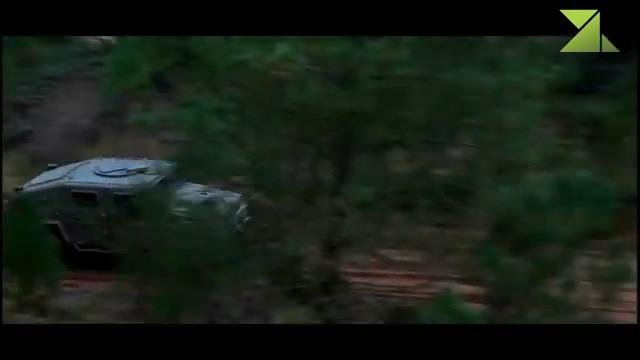MIL_HMMWV: (20, 158, 254, 257)
